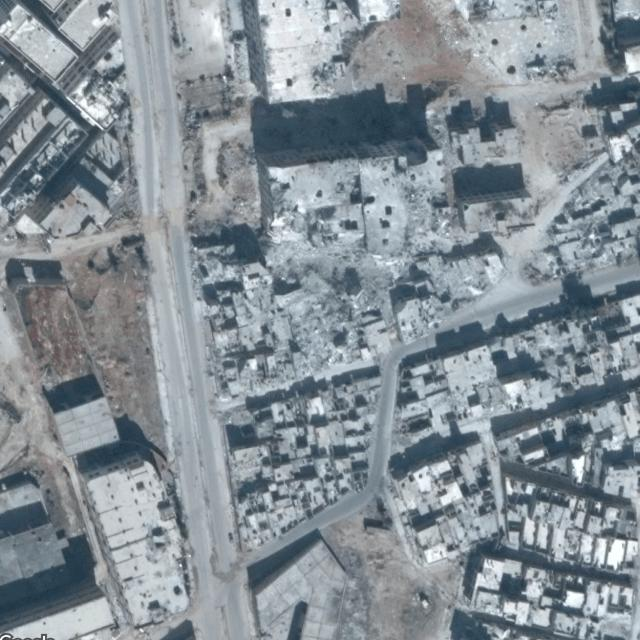damaged_building: (252, 132, 509, 378), (518, 140, 640, 288), (236, 0, 370, 110)
